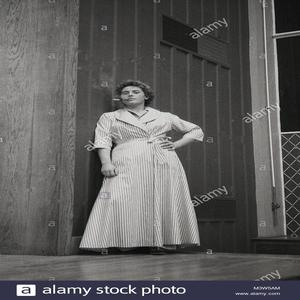cigarette: (107, 96, 131, 101)
